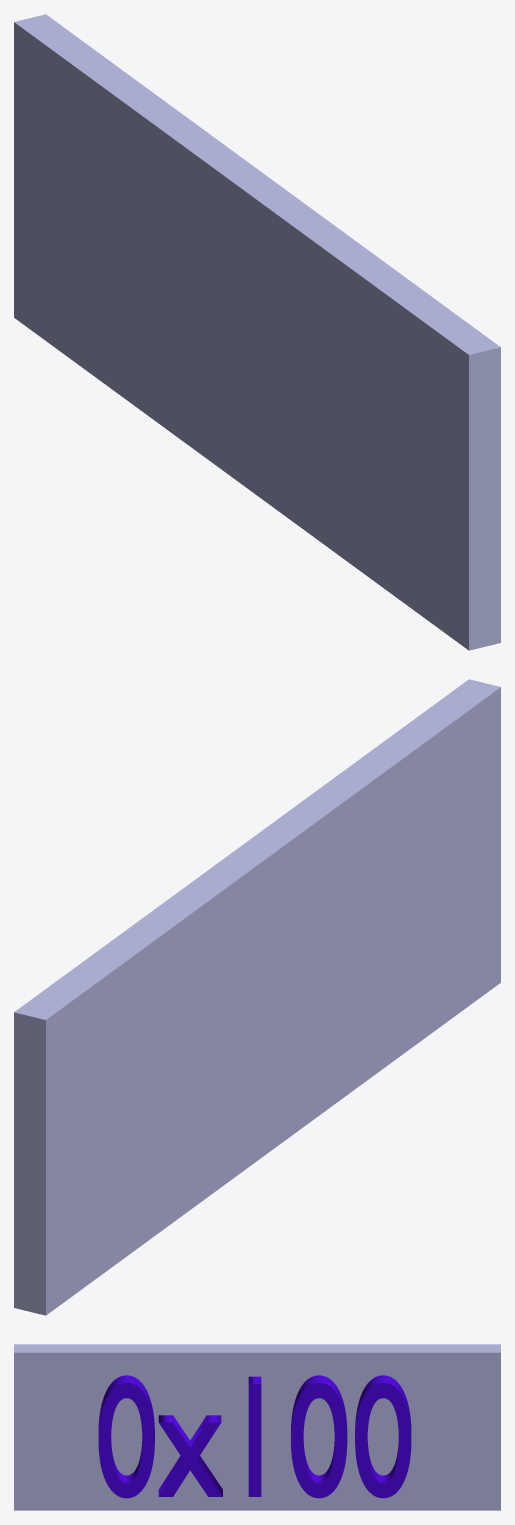
3 views of the same model, one above another, from view 1: azimuth 30°, elevation 25°; view 2: azimuth 150°, elevation 25°; view 3: azimuth 270°, elevation 25° (orthographic). The views are drawn at different scales.
Visible parts, largest first — view 1: Cube; view 2: Cube; view 3: Cube, Text.
Boxes of the visible parts, x1,y1,x2,y2 form: Cube: [14, 14, 500, 650]; Cube: [14, 679, 500, 1315]; Cube: [14, 1344, 500, 1510]; Text: [98, 1375, 411, 1498].
Bounding box in the file's own units: 2.65 × 12.33 × 34.39.
